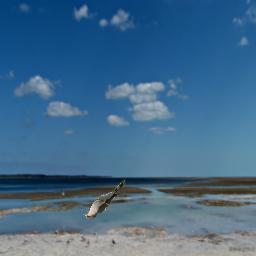Cuckoo: (83, 179, 127, 219)
